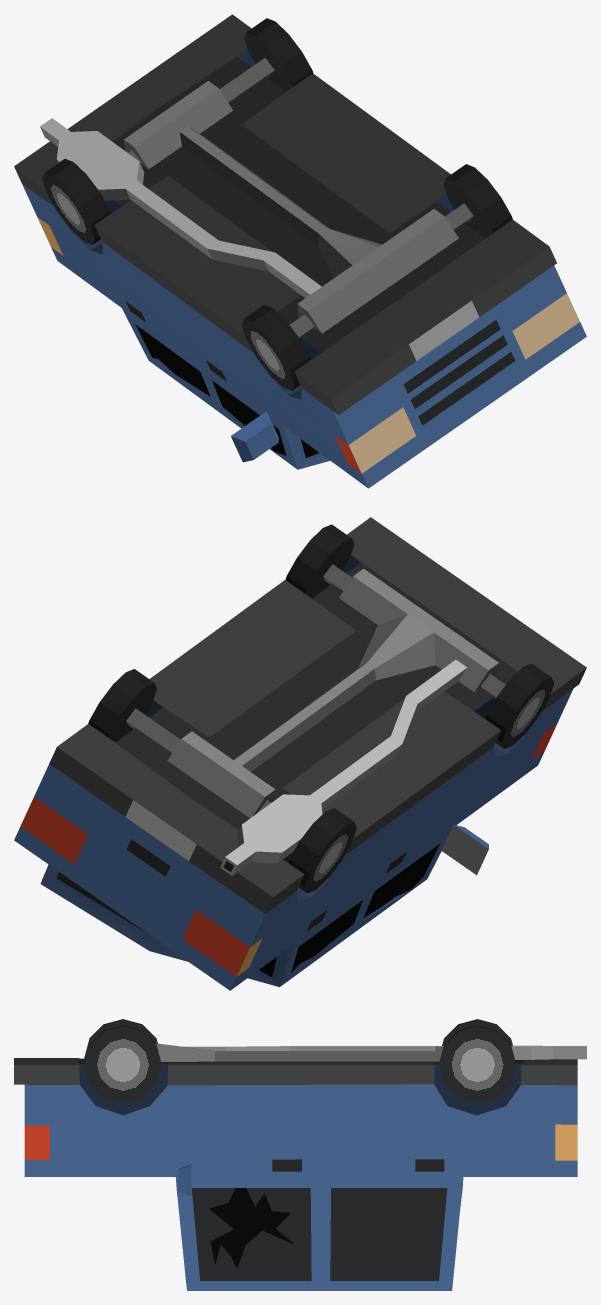
The model's file is SA_Prop_CarRolled_01.glb.
The picture shows the model from 3 angles, top to bottom: view 1: azimuth 30°, elevation 25°; view 2: azimuth 150°, elevation 25°; view 3: azimuth 270°, elevation 25°; orthographic projection. The views are drawn at different scales.
Visible parts, largest first — view 1: SA_Prop_CarRolled_01; view 2: SA_Prop_CarRolled_01; view 3: SA_Prop_CarRolled_01.
Part boxes in pixels (x1,y1,x2,y2): SA_Prop_CarRolled_01: (14, 14, 586, 488); SA_Prop_CarRolled_01: (14, 517, 586, 990); SA_Prop_CarRolled_01: (14, 1019, 586, 1290).
Size of the model in its own units: 1.58 by 1.37 by 2.72.
1 material, 1 textured.
